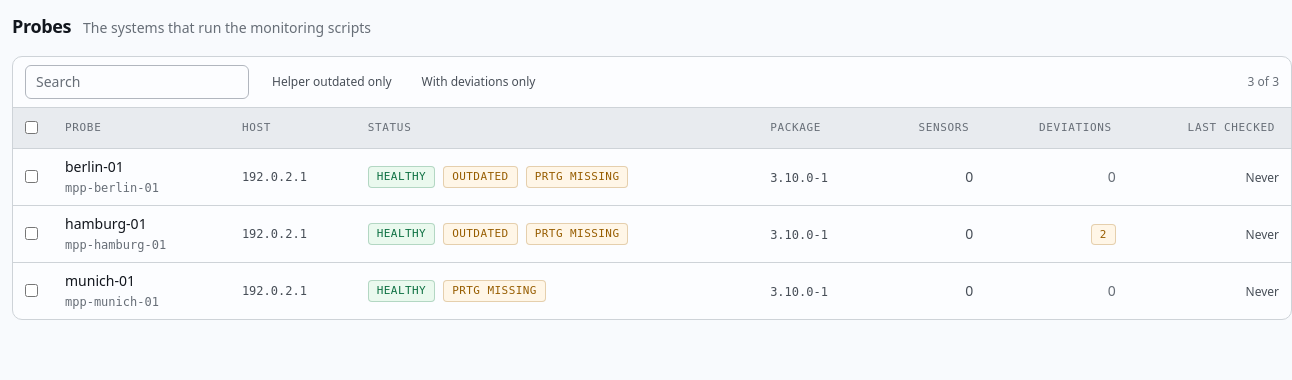
Test: acting on a selection of probes › offers an action only while the selection can use it
Expected: the text "mpp-berlin-01" is shown, [65,181,159,195]
Expected: the button "Update helper" is not shown
Click the checkbox named "P2" at [32, 234], box [25,227,38,240]
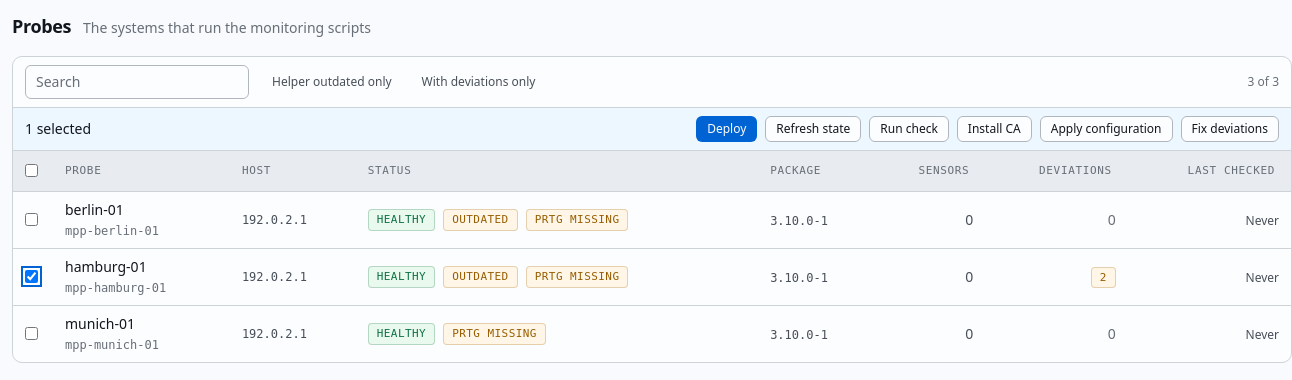
Expected: the button "Update helper" is not shown
Result: the button "Fix deviations" is shown at [1180,116,1279,142]
Click the checkbox named "P1" at [32, 220], box [25,213,38,226]
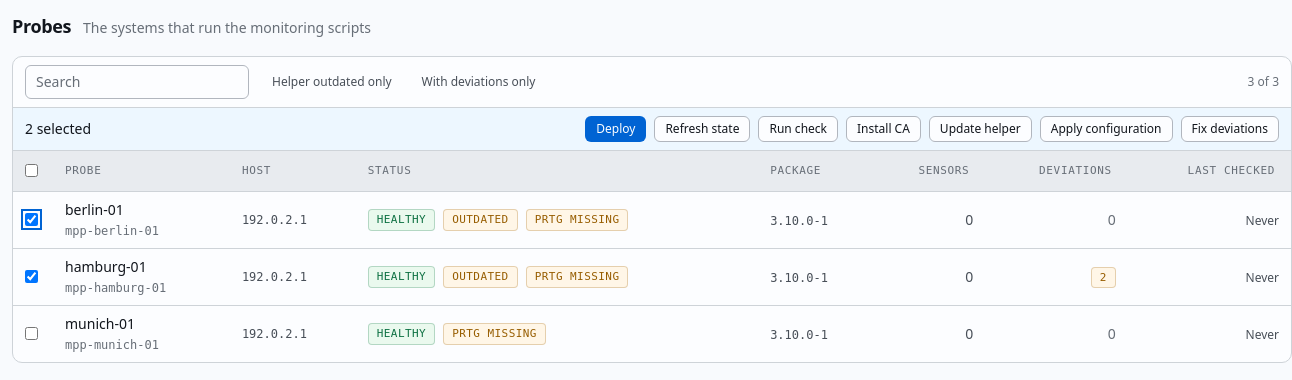
Result: the button "Update helper" is shown at [929,116,1032,142]
